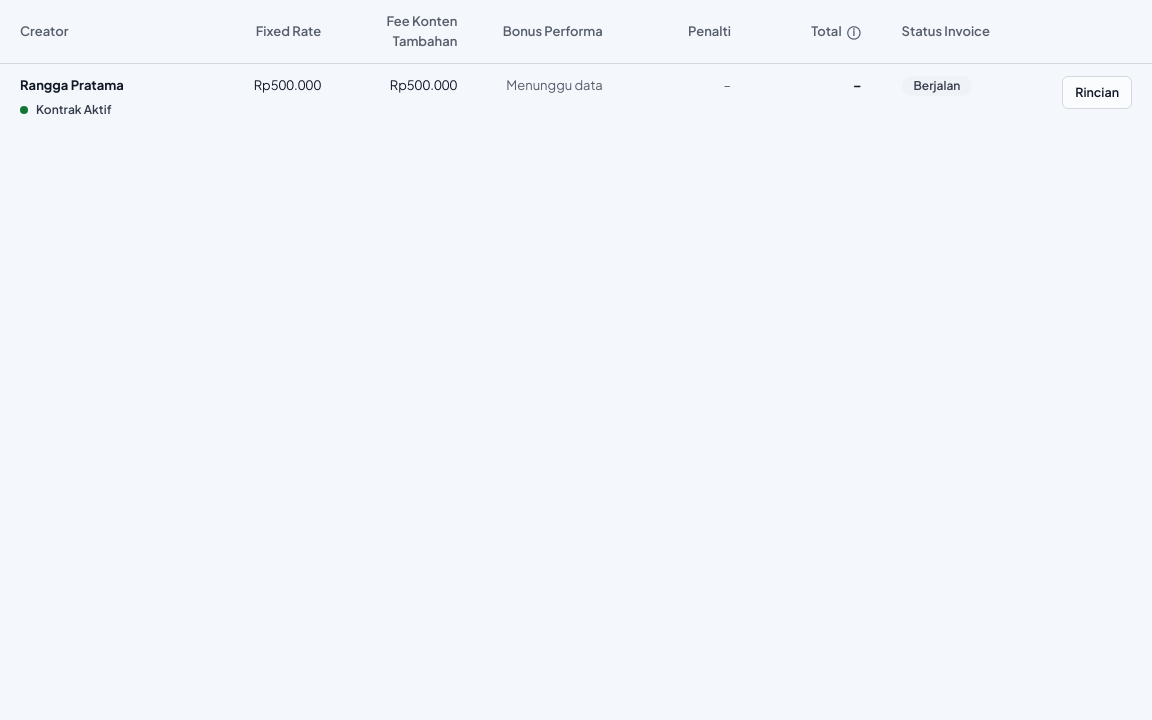
Test: InvoiceBoard › opens a column's breakdown from its cell
Click the button with aria-label "Konten Tambahan Rangga Pratama": x=424, y=86 [390,76,457,96]
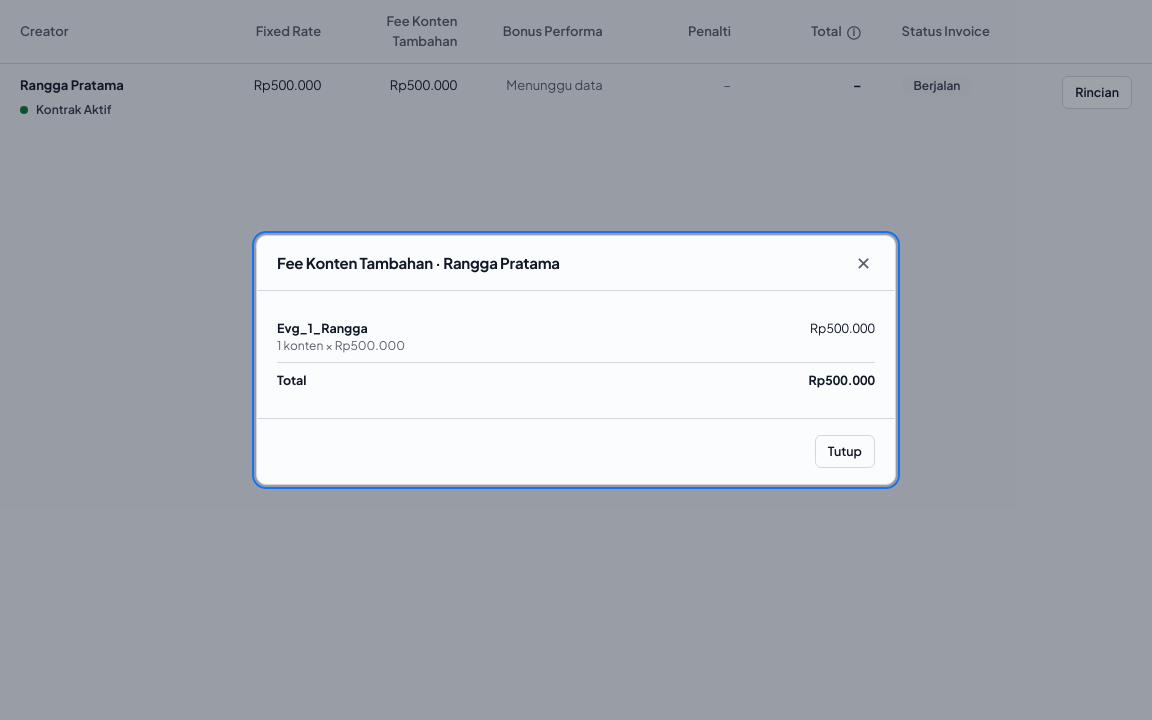
Check: the list shows "Evg_1_Rangga", box [277,319,368,338]
